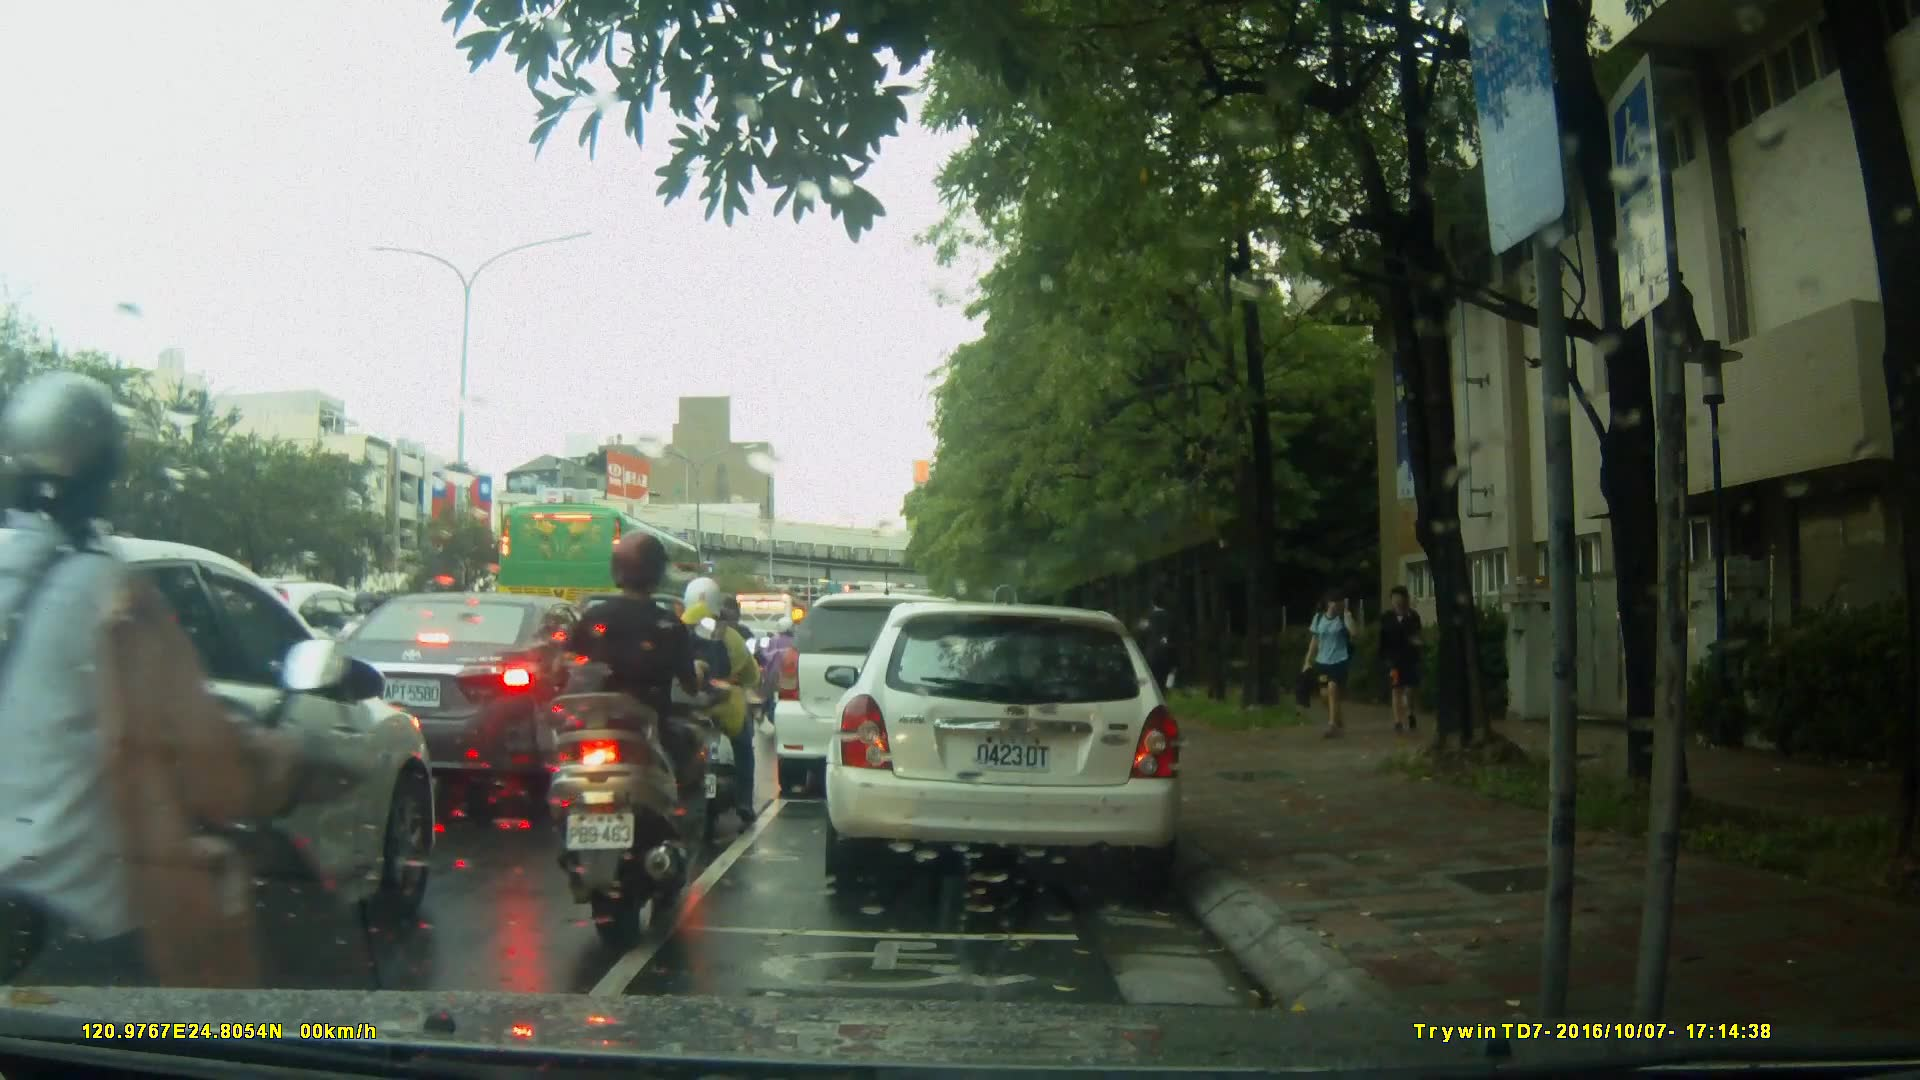pedestrian: (1293, 585, 1366, 745), (1379, 580, 1431, 742), (1134, 592, 1184, 744)
rider: (1, 377, 383, 1079), (544, 532, 701, 935), (665, 572, 762, 830), (758, 616, 812, 717)
vehicle: (1, 529, 445, 986), (831, 592, 1196, 897), (312, 590, 648, 807), (770, 592, 999, 801), (495, 502, 707, 638)
